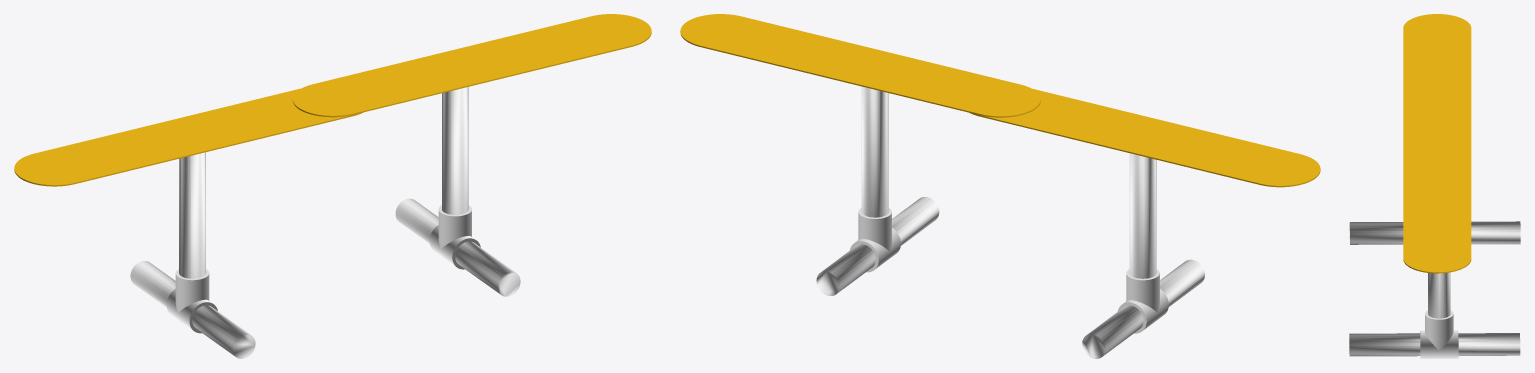
File: path_marker.dae
3 renders of one model, left to right at view 1: azimuth 30°, elevation 25°; view 2: azimuth 150°, elevation 25°; view 3: azimuth 270°, elevation 25°, orthographic. The views are drawn at different scales.
Visible parts, largest first — view 1: lane2, lane1, leg2, leg1; view 2: lane2, lane1, leg2, leg1; view 3: lane2, lane1, leg2, leg1.
Boxes of the visible parts, left/top/right/bottom form: lane2: left=292, top=14, right=651, bottom=117; lane1: left=14, top=88, right=363, bottom=186; leg2: left=395, top=87, right=520, bottom=296; leg1: left=130, top=152, right=255, bottom=358; lane2: left=680, top=14, right=1040, bottom=117; lane1: left=970, top=89, right=1320, bottom=187; leg2: left=816, top=86, right=939, bottom=295; leg1: left=1082, top=153, right=1204, bottom=358; lane2: left=1403, top=128, right=1471, bottom=273; lane1: left=1403, top=14, right=1471, bottom=140; leg2: left=1349, top=272, right=1520, bottom=358; leg1: left=1349, top=221, right=1520, bottom=244.
Bounding box in the file's own units: 1.37 × 0.3823 × 0.4037.
